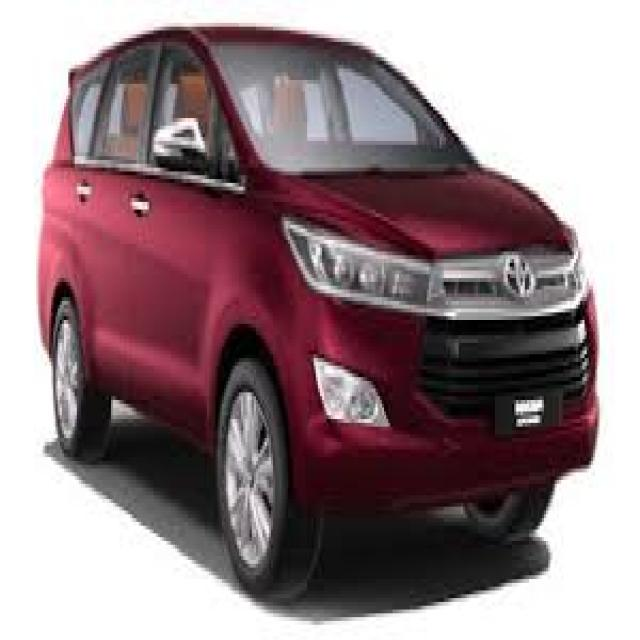light_vehicle: (35, 24, 600, 598)
